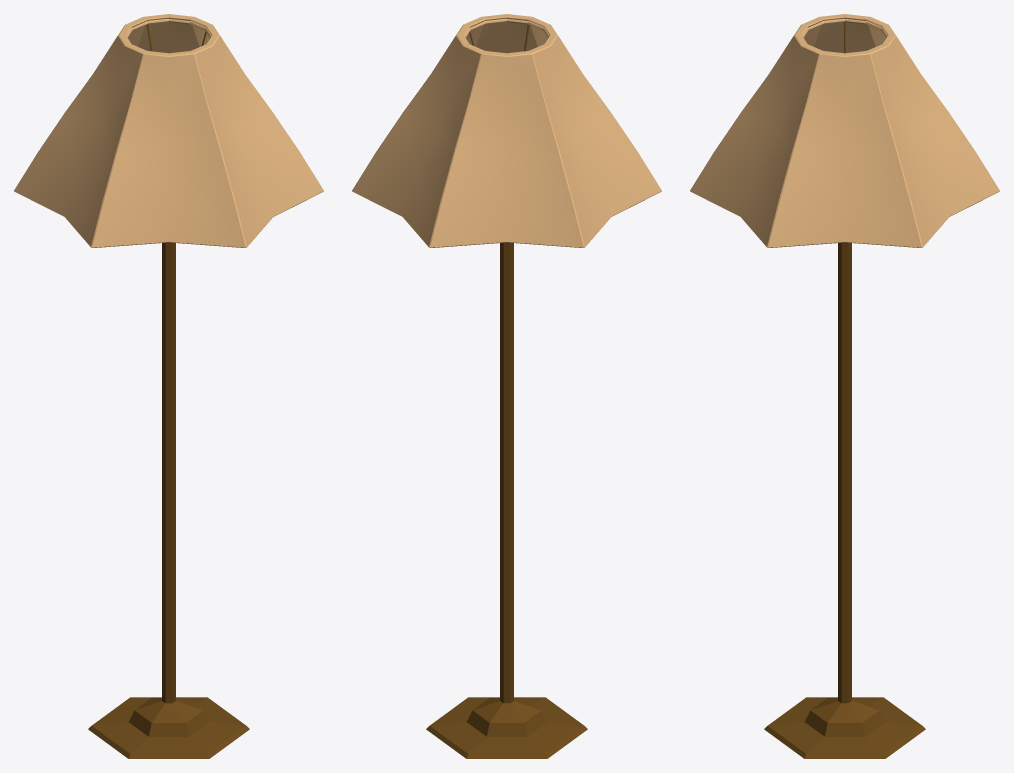
File: Tall_LampShade.fbx
The picture shows the model from 3 angles, left to right: view 1: azimuth 30°, elevation 25°; view 2: azimuth 150°, elevation 25°; view 3: azimuth 270°, elevation 25°; orthographic projection.
Visible parts, largest first — view 1: Tall Lamp; view 2: Tall Lamp; view 3: Tall Lamp.
Part boxes in pixels (x1,y1,x2,y2): Tall Lamp: [14, 14, 323, 758]; Tall Lamp: [352, 14, 661, 758]; Tall Lamp: [690, 14, 999, 758].
Size of the model in its own units: 152 by 432 by 175.
